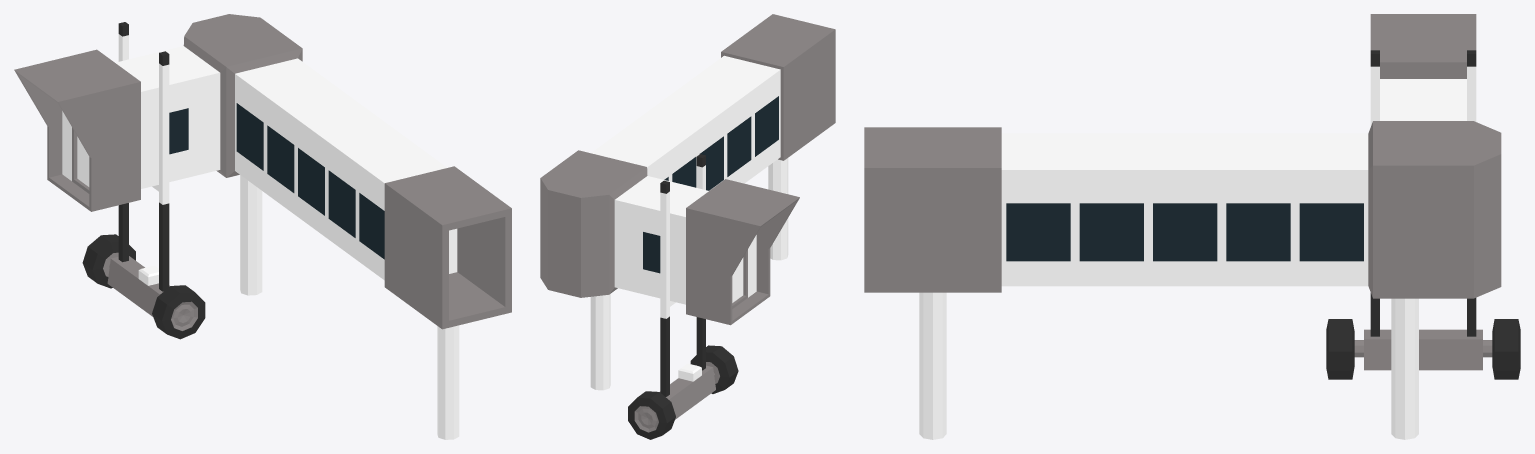
File: airport-jet-bridge.glb
3 renders of one model, left to right at view 1: azimuth 30°, elevation 25°; view 2: azimuth 150°, elevation 25°; view 3: azimuth 270°, elevation 25°, orthographic. The views are drawn at different scales.
Visible parts, largest first — view 1: airport-jet-bridge; view 2: airport-jet-bridge; view 3: airport-jet-bridge.
Part boxes in pixels (box(x1,y1,x2,y2)): airport-jet-bridge: box(14, 14, 511, 439); airport-jet-bridge: box(540, 14, 835, 439); airport-jet-bridge: box(864, 14, 1520, 439).
Bounding box in the file's own units: 7.4 × 7.8 × 14.32.
Materials: 1 (1 with a texture image).
